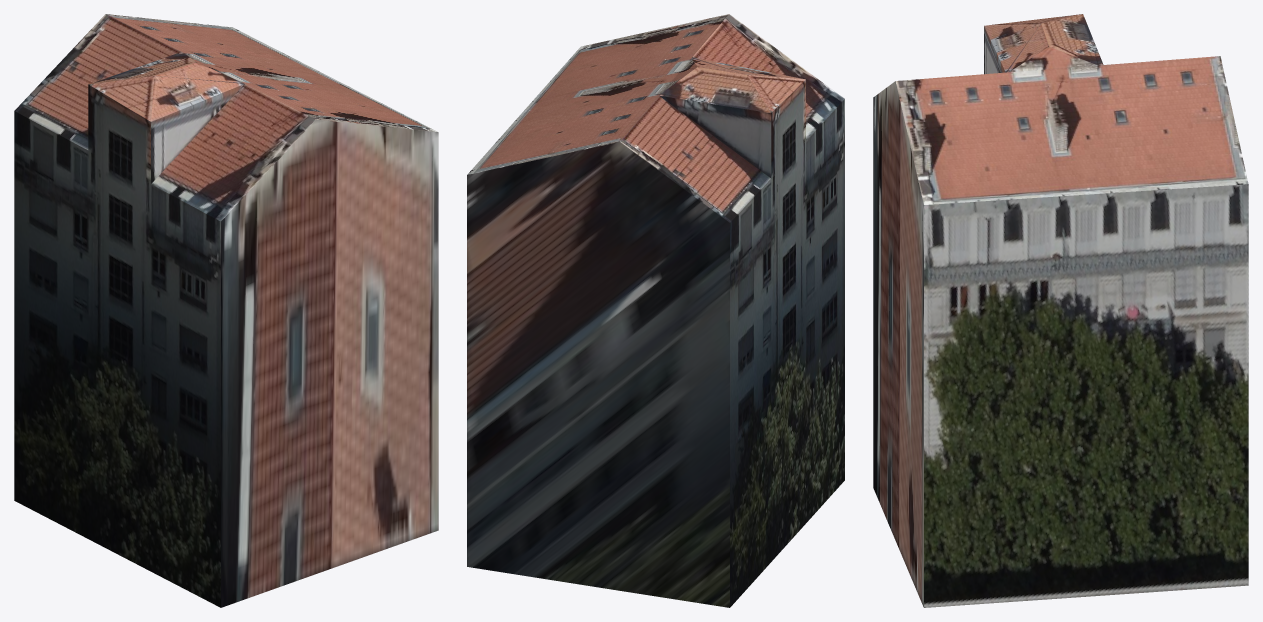
3 renders of one model, left to right at view 1: azimuth 30°, elevation 25°; view 2: azimuth 150°, elevation 25°; view 3: azimuth 270°, elevation 25°, orthographic. The views are drawn at different scales.
Parts seen in each view (by area): view 1: Z_UP; view 2: Z_UP; view 3: Z_UP.
Boxes of the visible parts, left/top/right/bottom form: Z_UP: left=14, top=14, right=438, bottom=607; Z_UP: left=467, top=14, right=844, bottom=607; Z_UP: left=873, top=14, right=1248, bottom=607.
Bounding box in the file's own units: 18.53 × 28.76 × 20.68.
2 materials, 1 textured.
